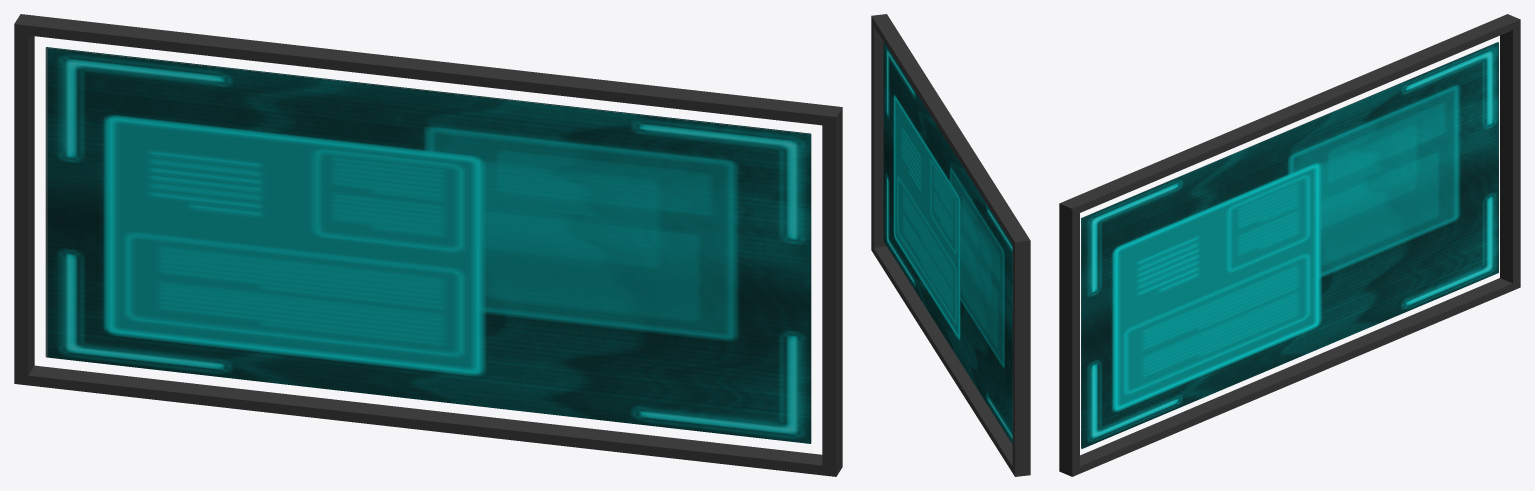
File: Float_Screen.fbx
The picture shows the model from 3 angles, left to right: view 1: azimuth 30°, elevation 25°; view 2: azimuth 150°, elevation 25°; view 3: azimuth 270°, elevation 25°; orthographic projection. The views are drawn at different scales.
Visible parts, largest first — view 1: Float_Screen; view 2: Float_Screen; view 3: Float_Screen.
Boxes of the visible parts, <box> form: Float_Screen: <box>14,14,842,476</box>; Float_Screen: <box>871,14,1030,476</box>; Float_Screen: <box>1059,14,1520,476</box>.
Size of the model in its own units: 723 by 463 by 723.
